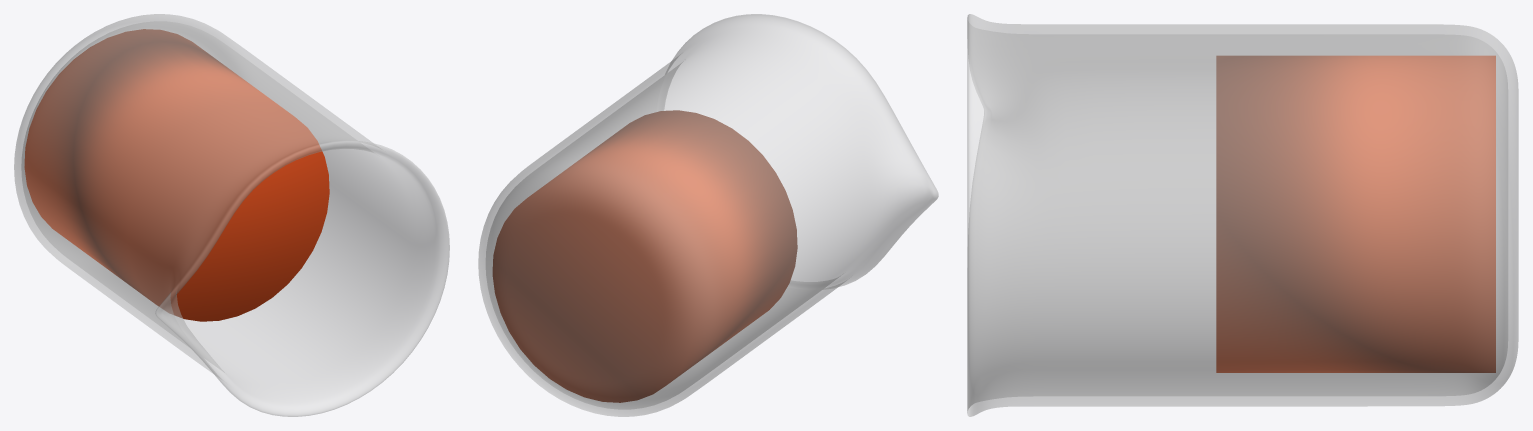
The model's file is BeakerWithOrangeReagnent4.glb.
The picture shows the model from 3 angles, left to right: view 1: azimuth 30°, elevation 25°; view 2: azimuth 150°, elevation 25°; view 3: azimuth 270°, elevation 25°; orthographic projection. The views are drawn at different scales.
Visible parts, largest first — view 1: beaker, Cylinder; view 2: beaker, Cylinder; view 3: beaker, Cylinder.
Part boxes in pixels (x1=…): beaker: x1=14, y1=14, x2=449, y2=416; Cylinder: x1=24, y1=29, x2=329, y2=321; beaker: x1=478, y1=14, x2=938, y2=416; Cylinder: x1=492, y1=110, x2=797, y2=402; beaker: x1=967, y1=14, x2=1518, y2=416; Cylinder: x1=1216, y1=55, x2=1495, y2=372.
Bounding box in the file's own units: 0.0853 × 0.0761 × 0.104.
